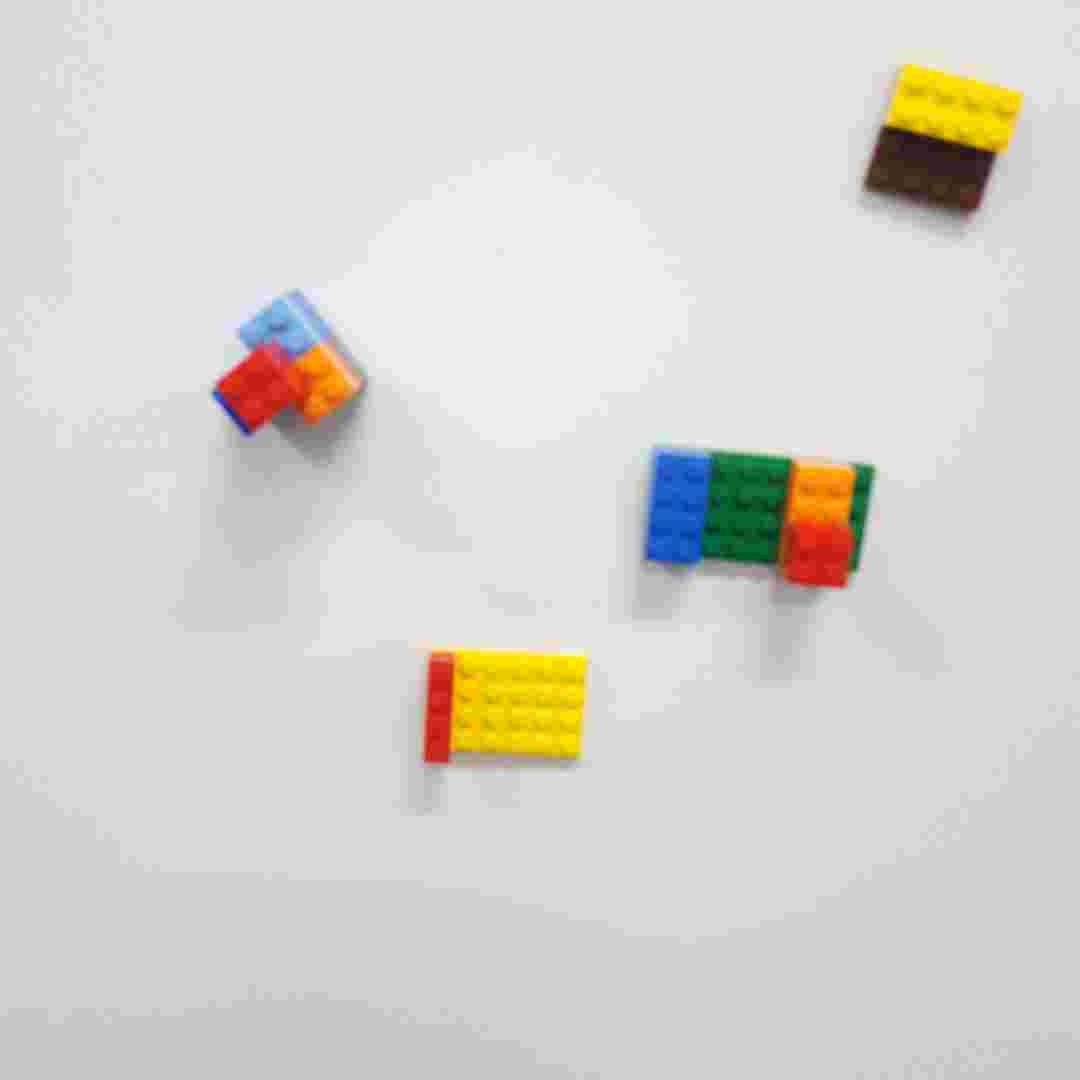LEGO: (642, 443, 876, 590), (858, 59, 1027, 217), (210, 288, 374, 439), (419, 645, 589, 769)
